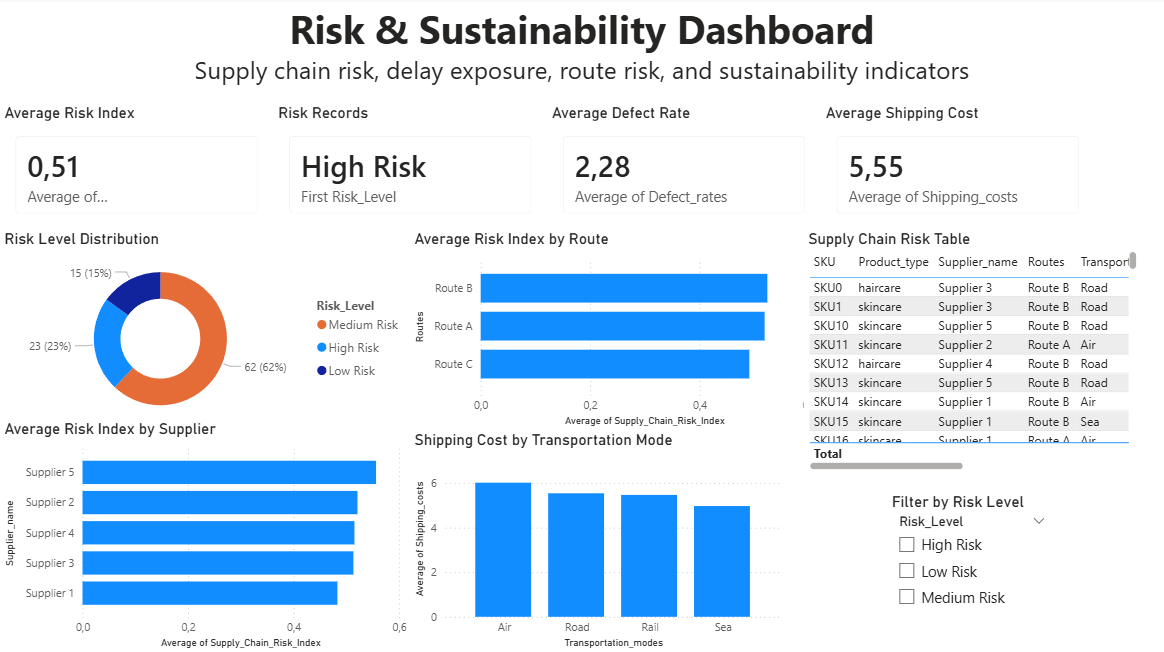

The page's visual inventory and layout, read from the dashboard file:
{"tool":"powerbi","page":{"name":"Risk & Sustainability","canvas":[1280,720],"ordinal":6},"visuals":[{"type":"textbox","box":[170.2,0,937.2,116.6],"z":0},{"type":"cardVisual","title":"Average Shipping Cost","fields":{"Data":["Avg(Main_Data.Shipping_costs)"]},"box":[901.5,116.6,300.5,138.6],"z":1},{"type":"cardVisual","title":"Average Defect Rate","fields":{"Data":["Avg(Main_Data.Defect_rates)"]},"box":[601,116.6,300.5,138.6],"z":2},{"type":"cardVisual","title":"Risk Records","fields":{"Data":["Min(Risk_Analysis.Risk_Level)"]},"box":[300.5,116.6,300.5,138.6],"z":3},{"type":"cardVisual","title":"Average Risk Index","fields":{"Data":["Avg(Risk_Analysis.Supply_Chain_Risk_Index)"]},"box":[0,116.6,300.5,138.6],"z":4},{"type":"donutChart","title":"Risk Level Distribution","fields":{"Category":["Risk_Analysis.Risk_Level"],"Y":["CountNonNull(Risk_Analysis.SKU)"]},"box":[0,255.2,451.5,220.9],"z":5},{"type":"clusteredBarChart","title":"Average Risk Index by Supplier","fields":{"Category":["Risk_Analysis.Supplier_name"],"Y":["Avg(Risk_Analysis.Supply_Chain_Risk_Index)"]},"box":[0,463.8,451.5,256.6],"z":6},{"type":"clusteredBarChart","title":"Average Risk Index by Route","fields":{"Category":["Risk_Analysis.Routes"],"Y":["Avg(Risk_Analysis.Supply_Chain_Risk_Index)"]},"box":[450.1,255.2,451.5,220.9],"z":7},{"type":"clusteredColumnChart","title":"Shipping Cost by Transportation Mode","fields":{"Category":["Main_Data.Transportation_modes"],"Y":["Avg(Main_Data.Shipping_costs)"]},"box":[450.1,476.2,413,244.3],"z":8},{"type":"tableEx","title":"Supply Chain Risk Table","fields":{"Values":["Risk_Analysis.SKU","Risk_Analysis.Product_type","Risk_Analysis.Supplier_name","Risk_Analysis.Routes","Risk_Analysis.Transportation_modes","Sum(Risk_Analysis.Supply_Chain_Risk_Index)","Risk_Analysis.Risk_Level"]},"box":[882.3,255.2,370.5,269],"z":9},{"type":"slicer","title":"Filter by Risk Level","fields":{"Values":["Risk_Analysis.Risk_Level"]},"box":[974.3,543.4,185.2,149.6],"z":10}]}

Visuals, with their boxes in screenshot pixels (x1, y1, x2, y2), scaled from the page's 1280x720 canvas onto the 1164x652 screenshot:
textbox: box=[155, 0, 1007, 106]
"Average Shipping Cost" cardVisual: box=[820, 106, 1093, 231]
"Average Defect Rate" cardVisual: box=[547, 106, 820, 231]
"Risk Records" cardVisual: box=[273, 106, 547, 231]
"Average Risk Index" cardVisual: box=[0, 106, 273, 231]
"Risk Level Distribution" donutChart: box=[0, 231, 411, 431]
"Average Risk Index by Supplier" clusteredBarChart: box=[0, 420, 411, 651]
"Average Risk Index by Route" clusteredBarChart: box=[409, 231, 820, 431]
"Shipping Cost by Transportation Mode" clusteredColumnChart: box=[409, 431, 785, 651]
"Supply Chain Risk Table" tableEx: box=[802, 231, 1139, 475]
"Filter by Risk Level" slicer: box=[886, 492, 1054, 628]
